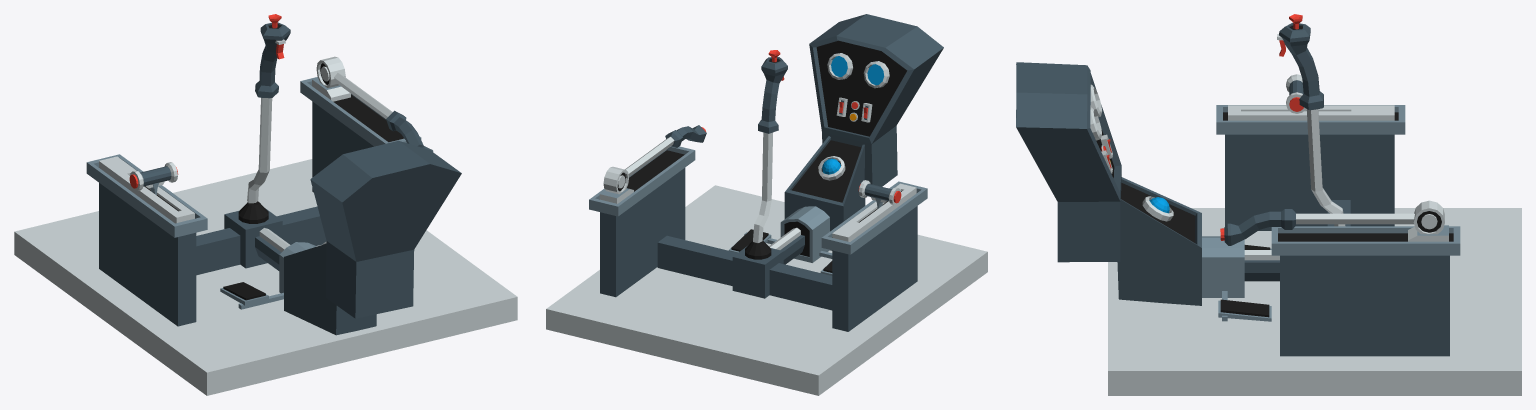
Rendered from heli-cockpit-controls-v1-by-joshua-johanson-7_lp7EHFVUt.glb.
3 renders of one model, left to right at view 1: azimuth 30°, elevation 25°; view 2: azimuth 150°, elevation 25°; view 3: azimuth 270°, elevation 25°, orthographic. The views are drawn at different scales.
Visible parts, largest first — view 1: group1550740763, group837482572, group785538632, group703458190, group1712204540, group437072943, group2063892212, group1617026833; view 2: group1550740763, group837482572, group703458190, group785538632, group1712204540, group437072943, group2063892212, group1617026833; view 3: group1550740763, group837482572, group703458190, group785538632, group437072943, group2063892212, group1617026833.
Part boxes in pixels (left/top/right/bottom): group1550740763: left=14, top=159, right=517, bottom=395; group837482572: left=220, top=140, right=461, bottom=335; group785538632: left=99, top=183, right=196, bottom=326; group703458190: left=300, top=56, right=433, bottom=192; group1712204540: left=196, top=206, right=326, bottom=275; group437072943: left=247, top=22, right=290, bottom=203; group2063892212: left=86, top=154, right=207, bottom=237; group1617026833: left=99, top=156, right=194, bottom=223; group1550740763: left=546, top=185, right=987, bottom=395; group837482572: left=728, top=14, right=943, bottom=298; group703458190: left=589, top=125, right=706, bottom=297; group785538632: left=832, top=206, right=917, bottom=331; group1712204540: left=657, top=235, right=832, bottom=310; group437072943: left=753, top=57, right=787, bottom=242; group2063892212: left=821, top=181, right=927, bottom=254; group1617026833: left=832, top=183, right=916, bottom=241; group1550740763: left=1108, top=208, right=1521, bottom=395; group837482572: left=1016, top=62, right=1279, bottom=321; group703458190: left=1220, top=200, right=1460, bottom=356; group785538632: left=1225, top=134, right=1394, bottom=230; group437072943: left=1279, top=22, right=1345, bottom=226; group2063892212: left=1216, top=105, right=1405, bottom=134; group1617026833: left=1228, top=105, right=1394, bottom=120.
Bounding box in the file's own units: 4.04 × 3.44 × 5.3.
